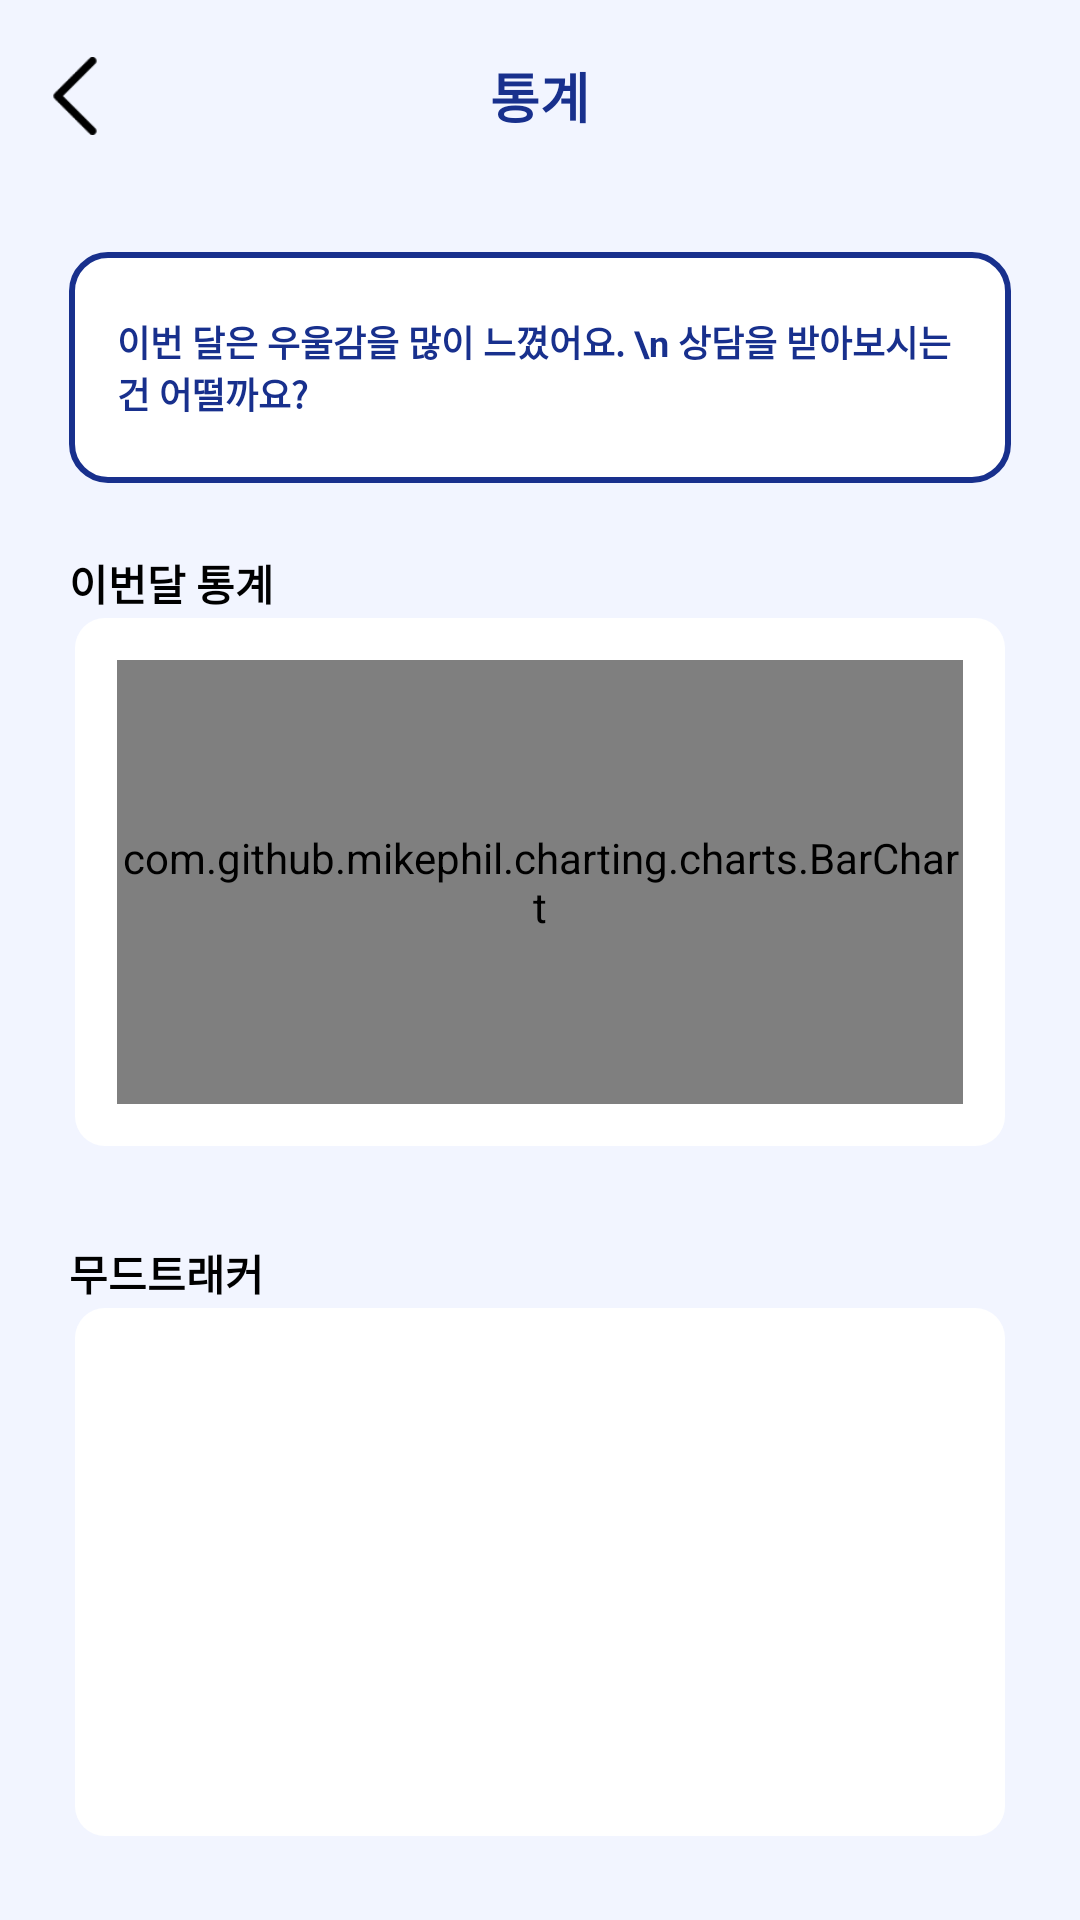

Icons on this 1080w x 1920h Android screen, each with its box as bbox=(x1, y1, x2, y2):
back: bbox=(53, 57, 97, 135)
